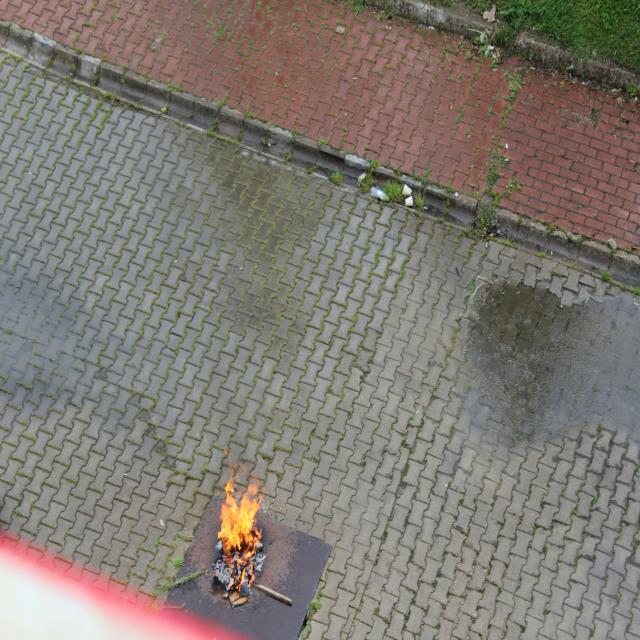fire: (216, 463, 264, 586)
